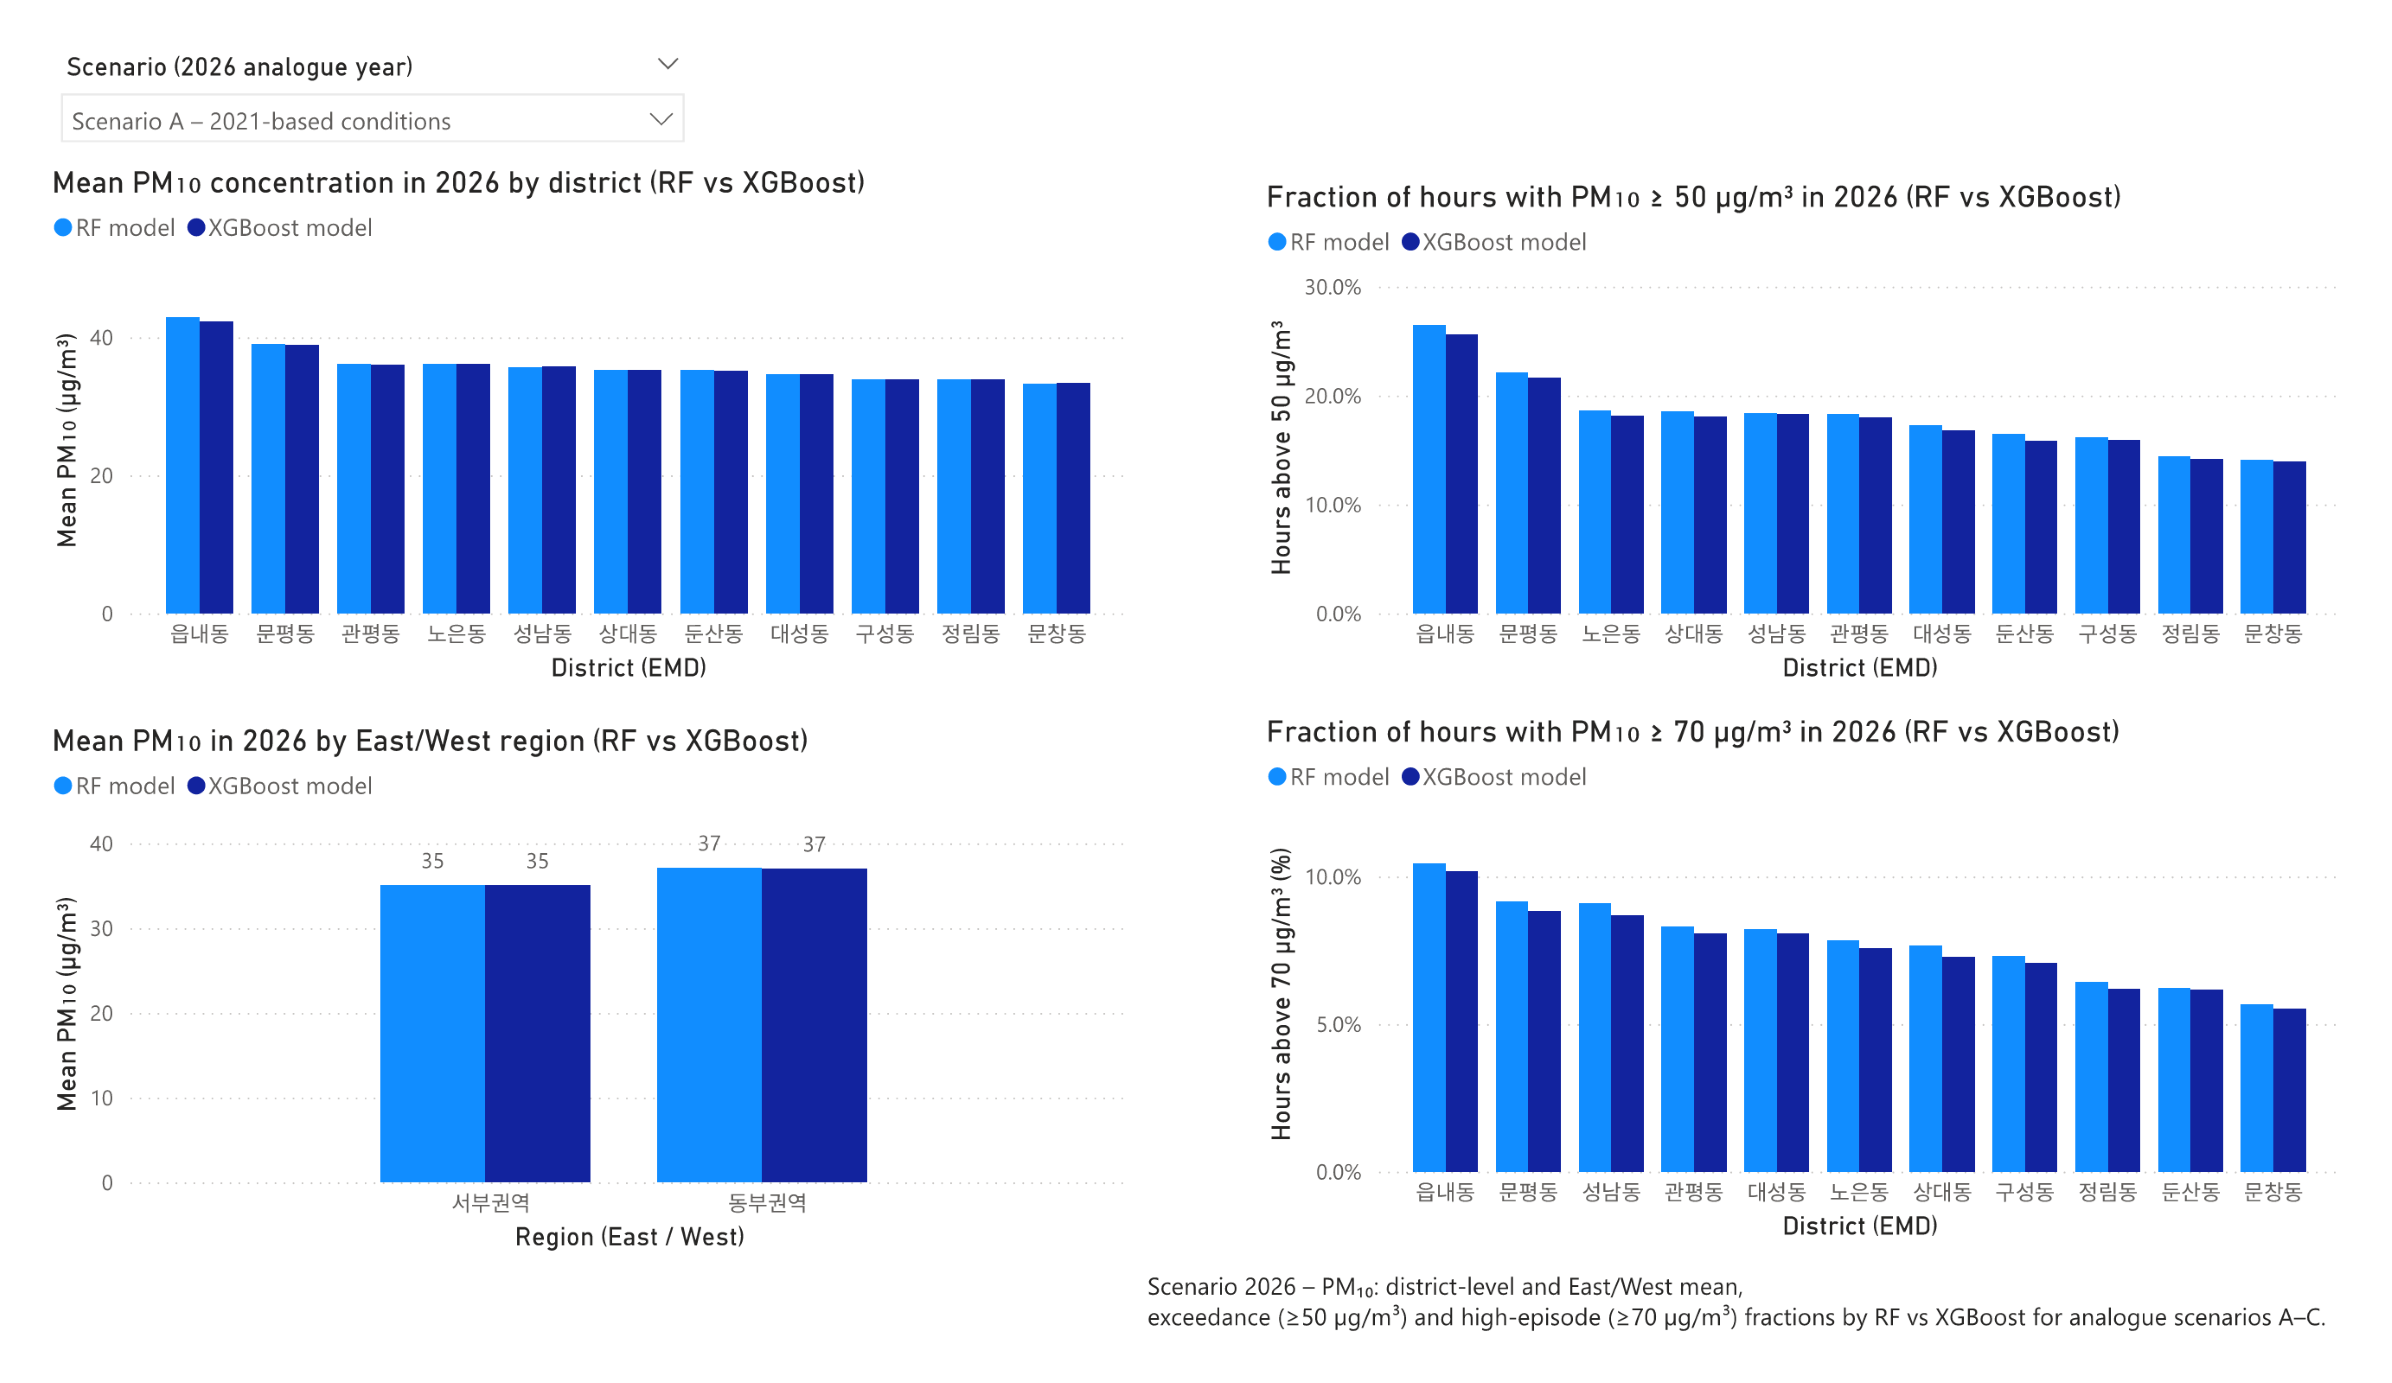

What the dashboard file says about the page in this screenshot:
{"tool":"powerbi","page":{"name":"Scenario 2026 – PM10 (Part 1A)","canvas":[1280,720],"ordinal":4},"visuals":[{"type":"slicer","fields":{"Values":["Dim_Scenario.scenario_label"]},"box":[0,0,366.2,62.5],"z":0},{"type":"clusteredColumnChart","title":"Fraction of hours with PM₁₀ ≥ 50 µg/m³ in 2026 (RF vs XGBoost)","fields":{"Category":["bi_admin_pm_stats_2026_pm10.EMD_NM"],"Y":["Avg(bi_admin_pm_stats_2026_pm10.frac_over50_rf)","Avg(bi_admin_pm_stats_2026_pm10.frac_over50_xgb)"]},"box":[673.8,71.2,606.2,288.8],"z":1000},{"type":"clusteredColumnChart","title":"Fraction of hours with PM₁₀ ≥ 70 µg/m³ in 2026 (RF vs XGBoost)","fields":{"Category":["bi_admin_pm_stats_2026_pm10.EMD_NM"],"Y":["Avg(bi_admin_pm_stats_2026_pm10.frac_over70_rf)","Avg(bi_admin_pm_stats_2026_pm10.frac_over70_xgb)"]},"box":[673.8,367.5,606.2,302.5],"z":2000},{"type":"clusteredColumnChart","title":"Mean PM₁₀ in 2026 by East/West region (RF vs XGBoost)","fields":{"Y":["Avg(bi_area_ew_stats_2026_pm10.mean_pm10_rf)","Avg(bi_area_ew_stats_2026_pm10.mean_pm10_xgb)"],"Category":["bi_area_ew_stats_2026_pm10.area_ew"]},"box":[0,372.9,606.7,303.3],"z":3000},{"type":"clusteredColumnChart","title":"Mean PM₁₀ concentration in 2026 by district (RF vs XGBoost)","fields":{"Category":["bi_admin_pm_stats_2026_pm10.EMD_NM"],"Y":["Avg(bi_admin_pm_stats_2026_pm10.mean_pm10_rf)","Avg(bi_admin_pm_stats_2026_pm10.mean_pm10_xgb)"]},"box":[0,62.5,606.2,297.5],"z":4000},{"type":"textbox","box":[567.5,676.2,712.5,43.8],"z":5000}]}

Visuals, with their boxes in screenshot pixels (x1, y1, x2, y2), scaled from the page's 1280x720 canvas onto the 2392x1383 screenshot:
slicer - Dim_Scenario.scenario_label: <region>0, 0, 684, 120</region>
"Fraction of hours with PM₁₀ ≥ 50 µg/m³ in 2026 (RF vs XGBoost)" clusteredColumnChart: <region>1259, 137, 2391, 692</region>
"Fraction of hours with PM₁₀ ≥ 70 µg/m³ in 2026 (RF vs XGBoost)" clusteredColumnChart: <region>1259, 706, 2391, 1287</region>
"Mean PM₁₀ in 2026 by East/West region (RF vs XGBoost)" clusteredColumnChart: <region>0, 716, 1134, 1299</region>
"Mean PM₁₀ concentration in 2026 by district (RF vs XGBoost)" clusteredColumnChart: <region>0, 120, 1133, 692</region>
textbox: <region>1061, 1299, 2391, 1382</region>
